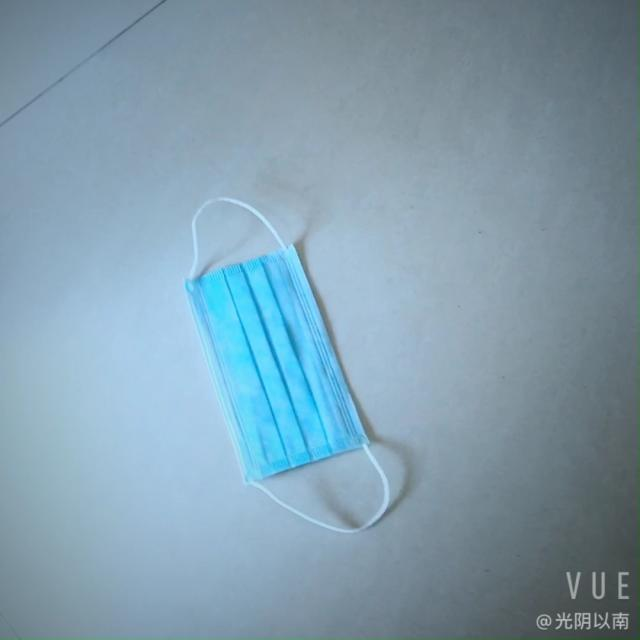non-organic waste: (187, 233, 384, 491)
